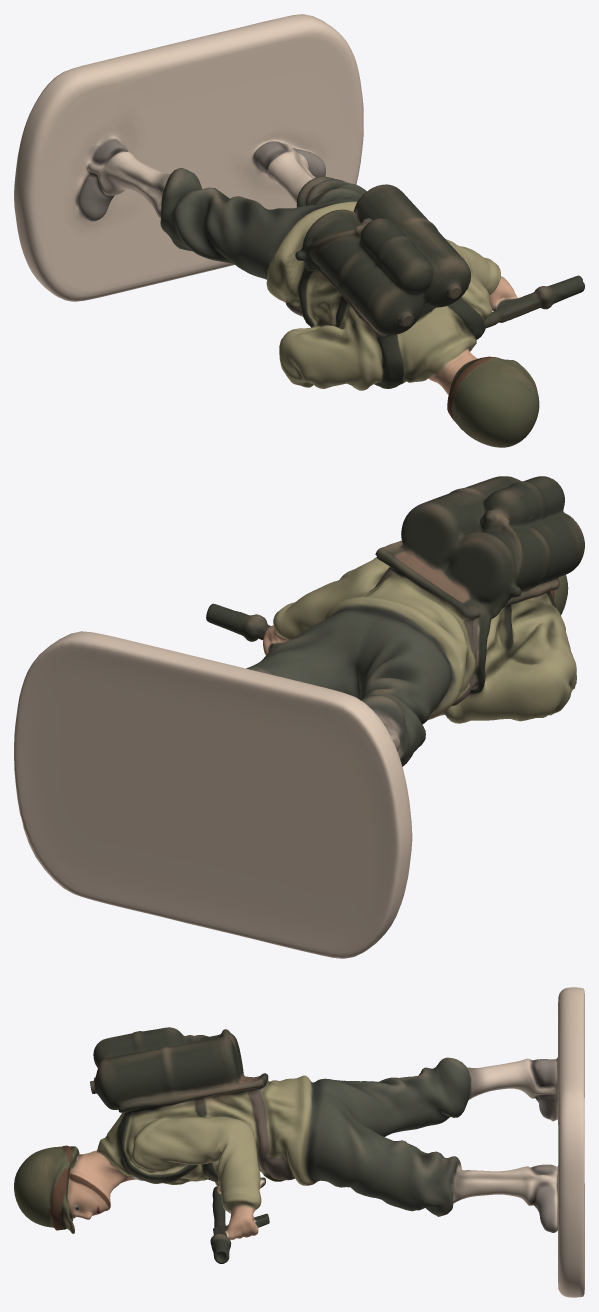
Rendered from 14074_WWII_Soldier_with_Flamethrower_v1_l1.obj.
The picture shows the model from 3 angles, top to bottom: view 1: azimuth 30°, elevation 25°; view 2: azimuth 150°, elevation 25°; view 3: azimuth 270°, elevation 25°; orthographic projection. The views are drawn at different scales.
Parts seen in each view (by area): view 1: 14074_WWII_Soldier_with_flame_thrower; view 2: 14074_WWII_Soldier_with_flame_thrower; view 3: 14074_WWII_Soldier_with_flame_thrower.
Part boxes in pixels (box(x1,y1,x2,y2)): 14074_WWII_Soldier_with_flame_thrower: box(14, 14, 584, 447); 14074_WWII_Soldier_with_flame_thrower: box(14, 476, 584, 958); 14074_WWII_Soldier_with_flame_thrower: box(14, 987, 584, 1297).
Size of the model in its own units: 0.9965 by 0.5944 by 1.48.
1 material, 1 textured.
